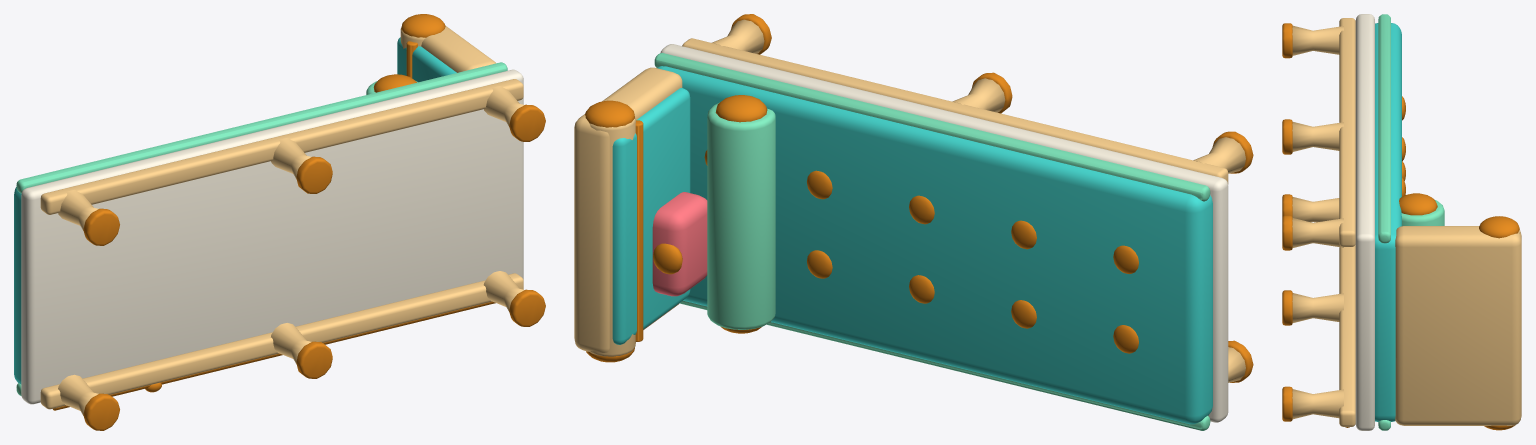
File: LoftChaiseLounge_Premium.fbx
3 views of the same model, side by side, from view 1: azimuth 30°, elevation 25°; view 2: azimuth 150°, elevation 25°; view 3: azimuth 270°, elevation 25° (orthographic). The views are drawn at different scales.
Visible parts, largest first — view 1: LoftChaiseLounge; view 2: LoftChaiseLounge; view 3: LoftChaiseLounge.
Part boxes in pixels (x1,y1,x2,y2): LoftChaiseLounge: [14, 14, 545, 430]; LoftChaiseLounge: [574, 14, 1253, 430]; LoftChaiseLounge: [1282, 14, 1521, 430].
Size of the model in its own units: 1.54 by 0.6755 by 0.694.
